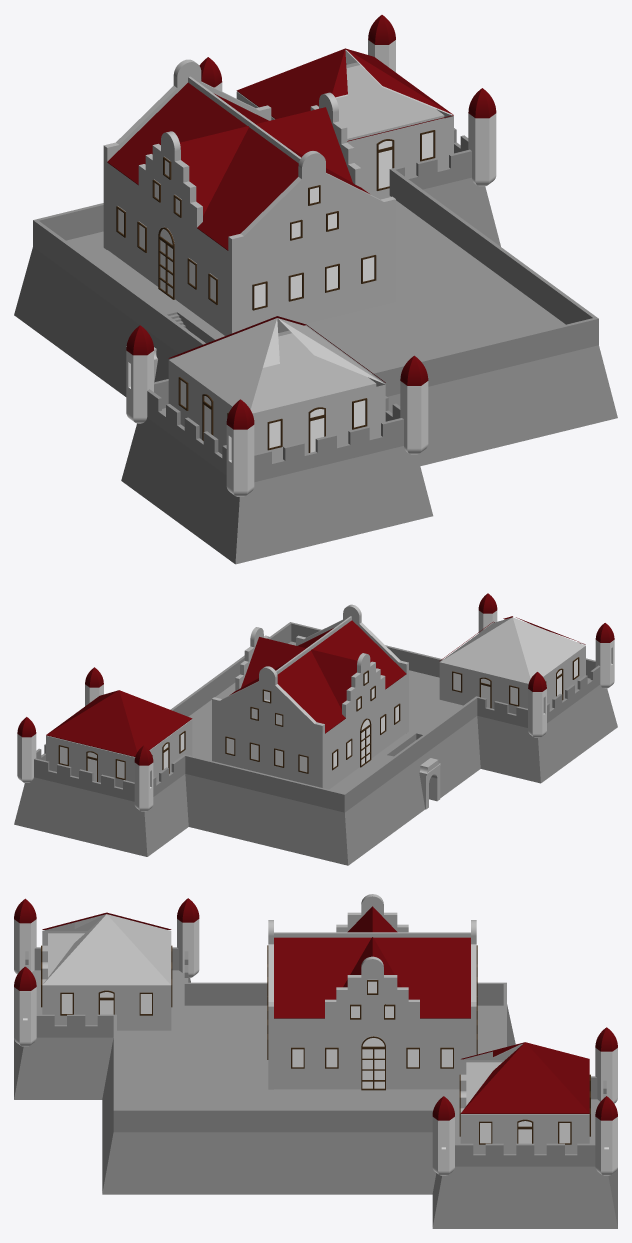
The model's file is fort_6.glb.
3 renders of one model, top to bottom at view 1: azimuth 30°, elevation 25°; view 2: azimuth 150°, elevation 25°; view 3: azimuth 270°, elevation 25°, orthographic. The views are drawn at different scales.
Parts seen in each view (by area): view 1: object_7, object_33, object_157, object_30, object_19, object_3, object_31, object_6, object_5, object_156, object_9, object_8 (+2 smaller); view 2: object_7, object_33, object_30, object_156, object_19, object_3, object_6, object_31, object_5, object_157, object_13, object_10 (+3 smaller); view 3: object_7, object_19, object_33, object_5, object_30, object_6, object_31, object_8, object_12, object_11, object_10, object_13 (+5 smaller).
Part boxes in pixels (bbox=[...]): object_7: bbox=[14, 177, 617, 564]; object_33: bbox=[33, 128, 598, 482]; object_157: bbox=[228, 151, 395, 334]; object_30: bbox=[168, 318, 385, 461]; object_19: bbox=[107, 76, 361, 335]; object_3: bbox=[107, 82, 298, 250]; object_31: bbox=[236, 50, 453, 192]; object_6: bbox=[236, 48, 453, 141]; object_5: bbox=[214, 93, 369, 193]; object_156: bbox=[103, 59, 271, 250]; object_9: bbox=[226, 425, 254, 496]; object_8: bbox=[400, 381, 428, 454]; object_7: bbox=[14, 641, 617, 865]; object_33: bbox=[34, 622, 600, 812]; object_30: bbox=[439, 617, 585, 714]; object_156: bbox=[212, 666, 324, 788]; object_19: bbox=[235, 616, 406, 789]; object_3: bbox=[277, 620, 406, 733]; object_6: bbox=[46, 690, 192, 756]; object_31: bbox=[46, 719, 192, 787]; object_5: bbox=[229, 628, 333, 695]; object_157: bbox=[296, 604, 408, 733]; object_13: bbox=[134, 763, 153, 811]; object_10: bbox=[528, 689, 546, 737]; object_7: bbox=[14, 970, 617, 1228]; object_19: bbox=[274, 894, 470, 1089]; object_33: bbox=[25, 947, 606, 1166]; object_5: bbox=[274, 937, 470, 1018]; object_30: bbox=[42, 914, 171, 1030]; object_6: bbox=[460, 1042, 589, 1113]; object_31: bbox=[460, 1044, 589, 1153]; object_8: bbox=[14, 987, 36, 1046]; object_12: bbox=[595, 1117, 617, 1175]; object_11: bbox=[432, 1117, 454, 1175]; object_10: bbox=[177, 919, 199, 977]; object_13: bbox=[595, 1048, 617, 1103].
Bounding box in the file's own units: 43.4 × 18.89 × 53.4.
